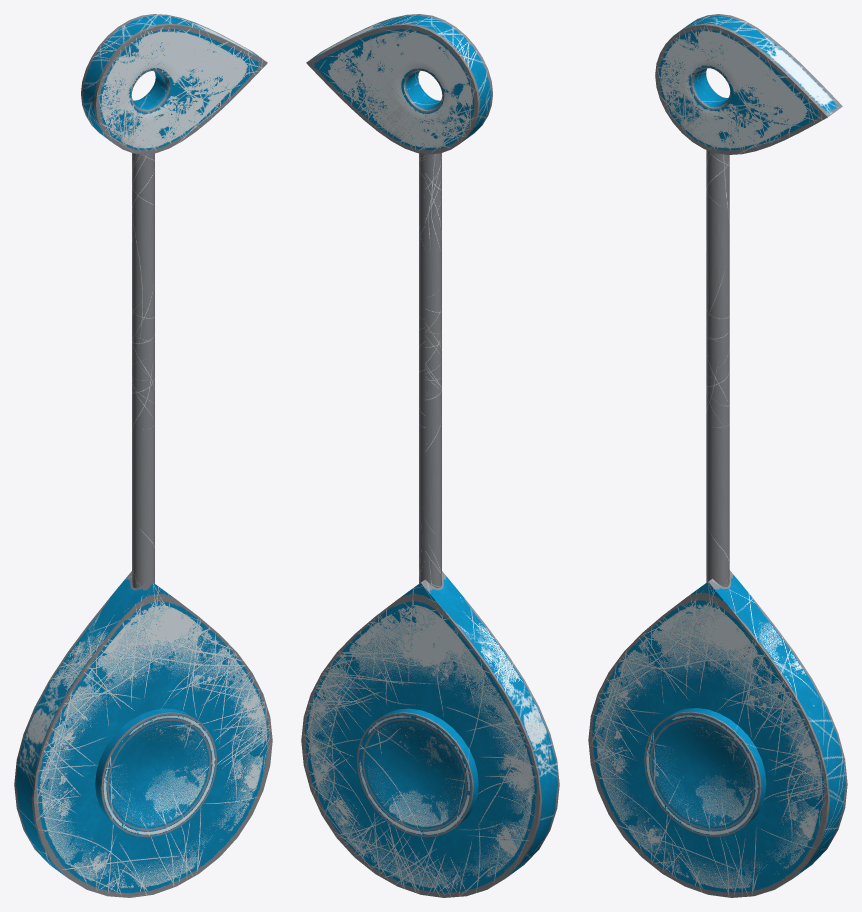
File: pieza_light.glb
The picture shows the model from 3 angles, left to right: view 1: azimuth 30°, elevation 25°; view 2: azimuth 150°, elevation 25°; view 3: azimuth 330°, elevation 25°; orthographic projection.
Parts seen in each view (by area): view 1: light_low.002; view 2: light_low.002; view 3: light_low.002.
Boxes of the visible parts, <box> form: light_low.002: <box>14,14,272,897</box>; light_low.002: <box>301,14,559,897</box>; light_low.002: <box>588,14,847,897</box>.
Bounding box in the file's own units: 1.02 × 3.53 × 0.2332.
Materials: 1 (1 with a texture image).
